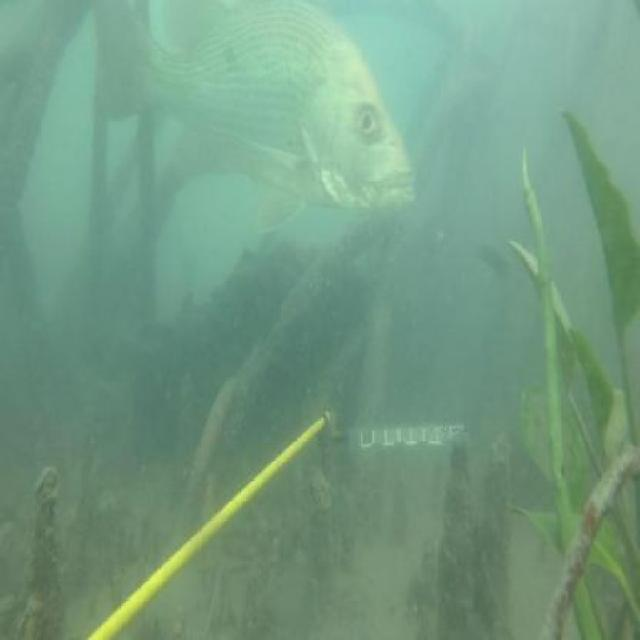lutjanus_johnii: (89, 0, 418, 238)
